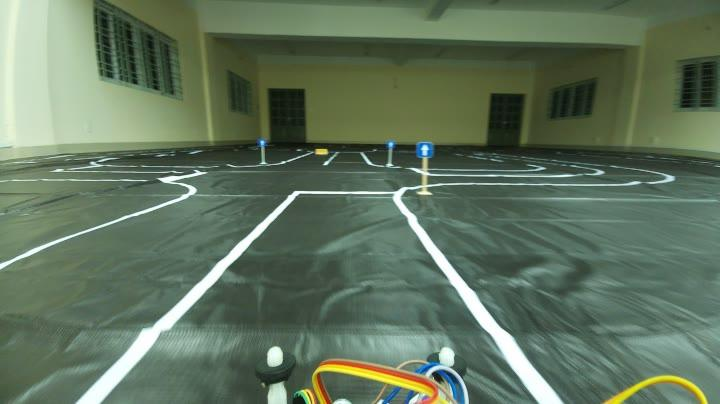onewayroad: (417, 136, 432, 162), (382, 136, 395, 149), (254, 138, 267, 148)
roadblock: (314, 149, 329, 156)
